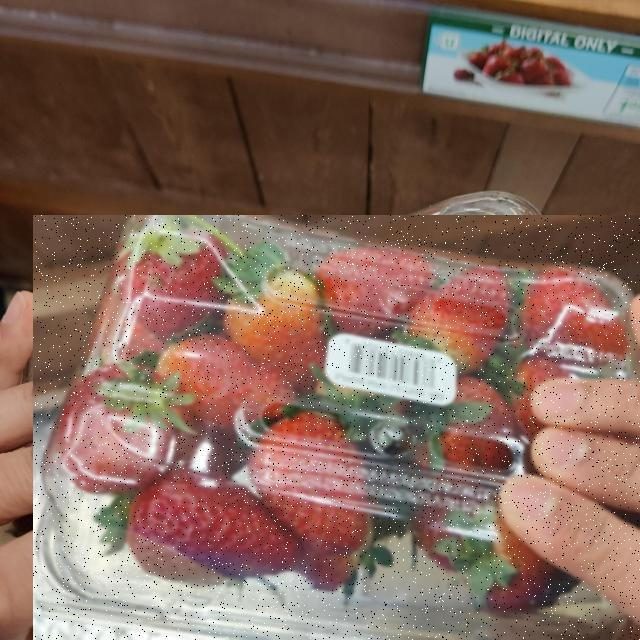Straw Berry: (33, 215, 640, 640)
